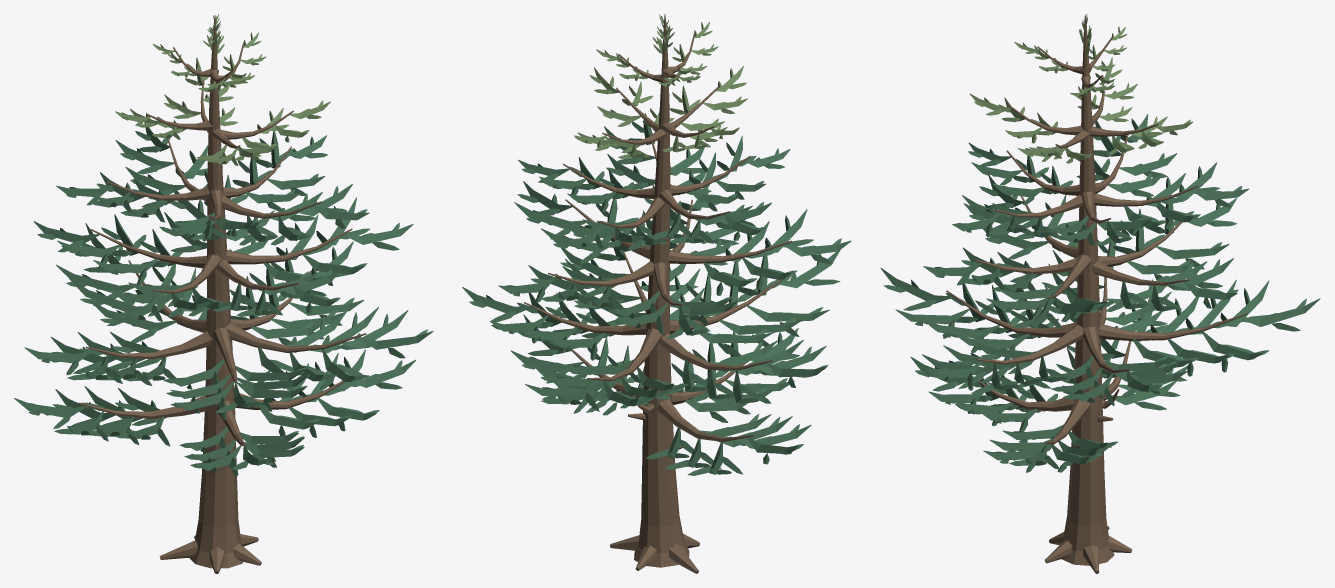
Rendered from conifer-tree.glb.
3 views of the same model, side by side, from view 1: azimuth 30°, elevation 25°; view 2: azimuth 150°, elevation 25°; view 3: azimuth 270°, elevation 25° (orthographic).
Parts seen in each view (by area): view 1: Conifer | clustered narrow needle-bearing shoots, Conifer | editable woody axis boughs and collars; view 2: Conifer | clustered narrow needle-bearing shoots, Conifer | editable woody axis boughs and collars; view 3: Conifer | clustered narrow needle-bearing shoots, Conifer | editable woody axis boughs and collars.
Boxes of the visible parts, x1,y1,x2,y2 form: Conifer | clustered narrow needle-bearing shoots: (14,14,433,476); Conifer | editable woody axis boughs and collars: (78,15,366,573); Conifer | clustered narrow needle-bearing shoots: (462,14,851,475); Conifer | editable woody axis boughs and collars: (524,14,792,573); Conifer | clustered narrow needle-bearing shoots: (880,14,1320,472); Conifer | editable woody axis boughs and collars: (946,14,1247,573).
Bounding box in the file's own units: 4.71 × 7.04 × 5.22.
